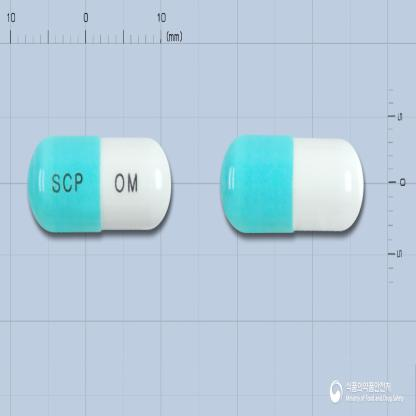pill: (218, 132, 366, 235), (26, 134, 173, 233)
